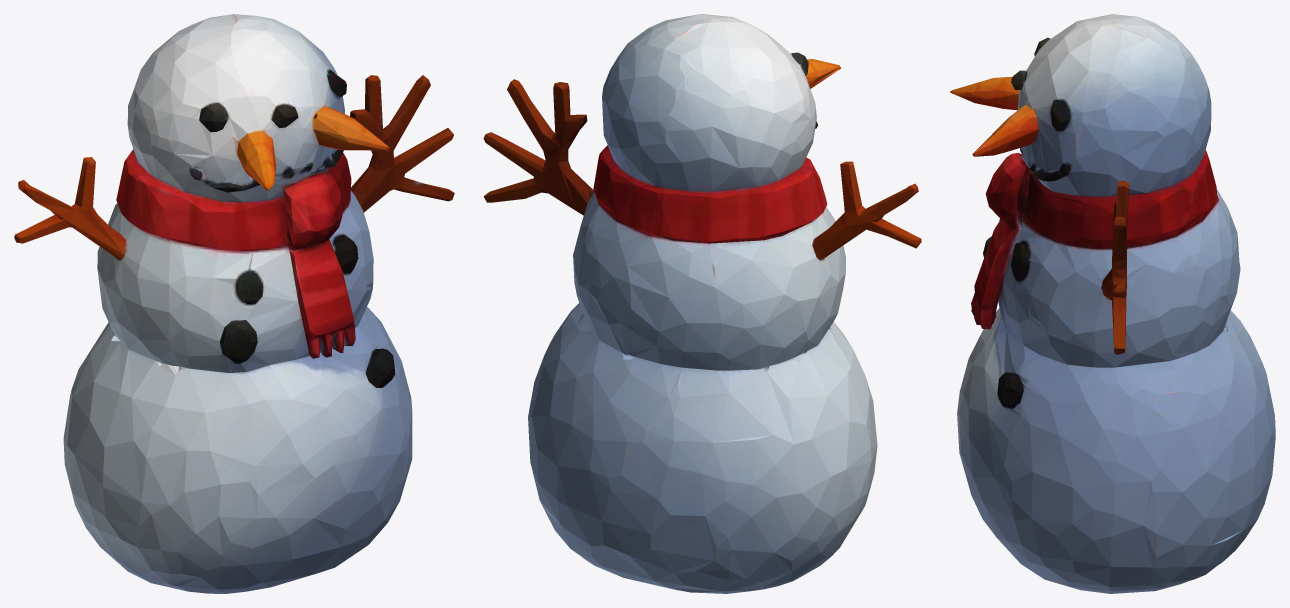
The model's file is snowman.glb.
3 views of the same model, side by side, from view 1: azimuth 30°, elevation 25°; view 2: azimuth 150°, elevation 25°; view 3: azimuth 270°, elevation 25° (orthographic).
Visible parts, largest first — view 1: geometry_0; view 2: geometry_0; view 3: geometry_0.
Part boxes in pixels (left/top/right/bottom): geometry_0: left=14, top=14, right=454, bottom=593; geometry_0: left=483, top=14, right=921, bottom=593; geometry_0: left=950, top=14, right=1275, bottom=593.
Bounding box in the file's own units: 0.8635 × 0.9993 × 0.5703.
Materials: 1 (1 with a texture image).
